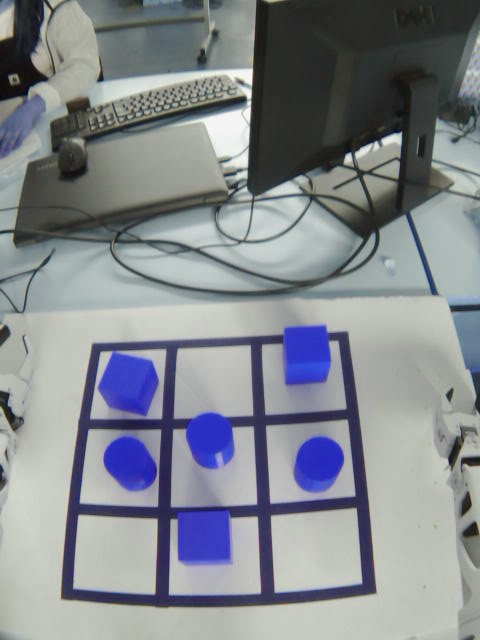cube: (92, 346, 168, 419), (270, 316, 339, 390), (173, 499, 240, 571)
cylinder: (181, 406, 243, 473), (97, 433, 162, 494), (288, 430, 348, 496)
empty: (262, 506, 370, 599), (69, 508, 168, 602), (169, 341, 259, 426)
